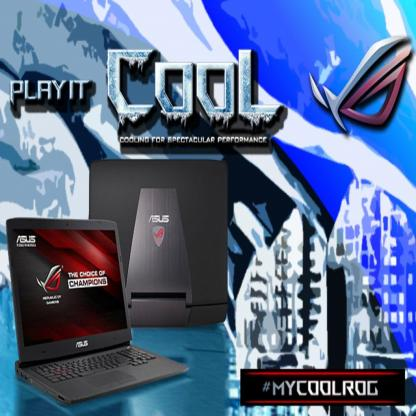board: (6, 217, 172, 410), (89, 160, 227, 328)
